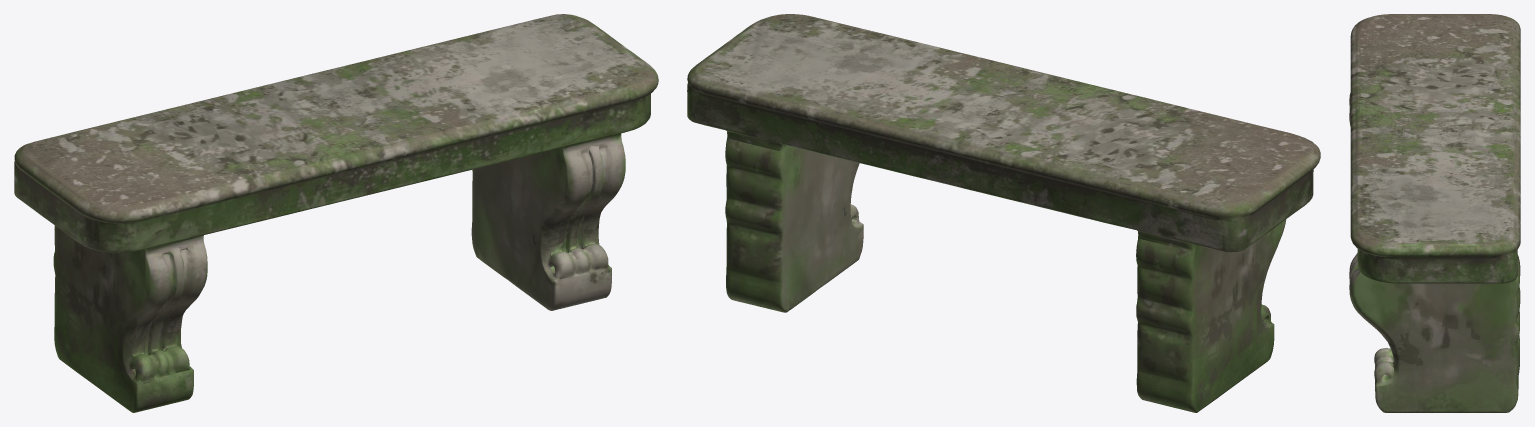
The model's file is BenchStone.glb.
3 views of the same model, side by side, from view 1: azimuth 30°, elevation 25°; view 2: azimuth 150°, elevation 25°; view 3: azimuth 270°, elevation 25° (orthographic). The views are drawn at different scales.
Parts seen in each view (by area): view 1: BenchStone; view 2: BenchStone; view 3: BenchStone.
Boxes of the visible parts, x1,y1,x2,y2 form: BenchStone: (14, 14, 658, 412); BenchStone: (687, 14, 1320, 412); BenchStone: (1349, 14, 1520, 412).
Bounding box in the file's own units: 1.53 × 0.5639 × 0.4692.
1 material, 1 textured.
